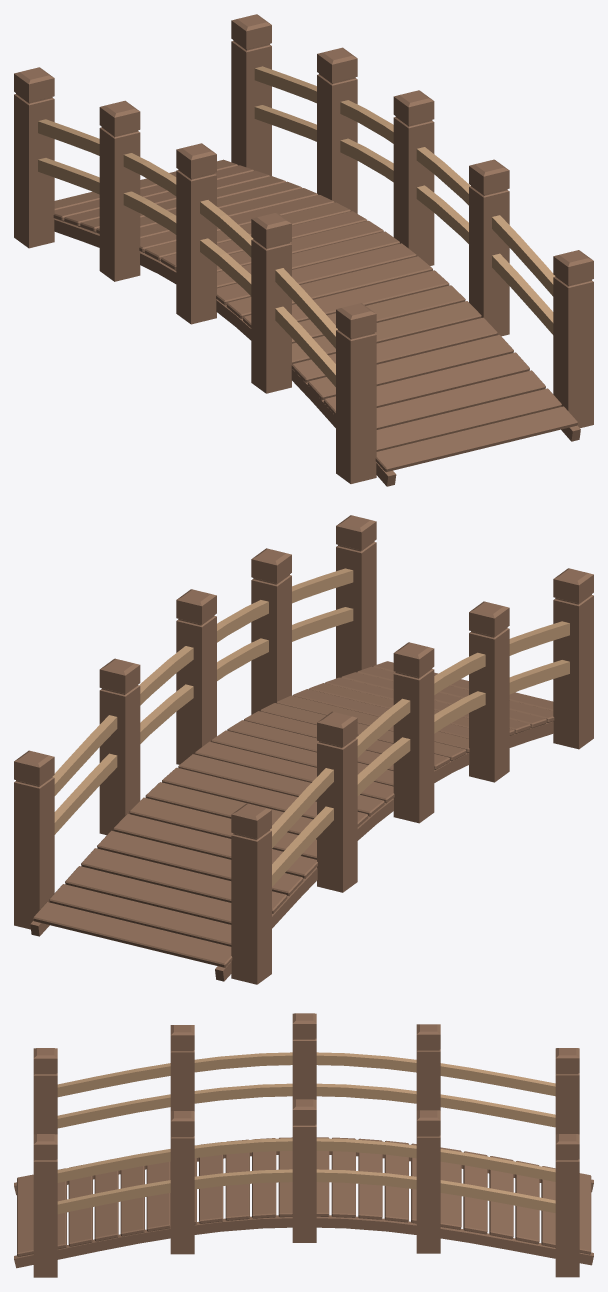
File: Bridge.fbx
The picture shows the model from 3 angles, top to bottom: view 1: azimuth 30°, elevation 25°; view 2: azimuth 150°, elevation 25°; view 3: azimuth 270°, elevation 25°; orthographic projection. The views are drawn at different scales.
Parts seen in each view (by area): view 1: Bridge; view 2: Bridge; view 3: Bridge.
Part boxes in pixels (<box>): Bridge: <box>14,14,593,486</box>; Bridge: <box>14,515,593,984</box>; Bridge: <box>14,1013,593,1277</box>.
Bounding box in the file's own units: 1888 × 1557 × 4808.
